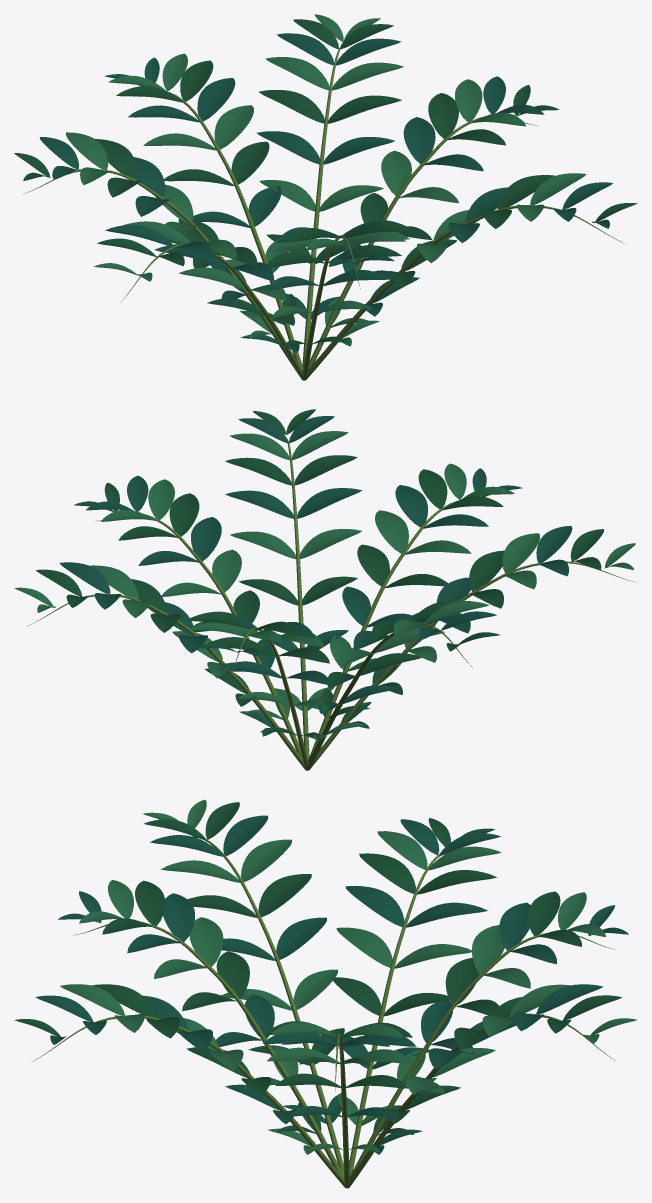
Rendered from fern.glb.
3 views of the same model, one above another, from view 1: azimuth 30°, elevation 25°; view 2: azimuth 150°, elevation 25°; view 3: azimuth 270°, elevation 25° (orthographic). The views are drawn at different scales.
Parts seen in each view (by area): view 1: fern; view 2: fern; view 3: fern.
Part boxes in pixels (x1,y1,x2,y2): fern: (14,14,637,380); fern: (14,409,637,770); fern: (14,799,637,1188).
Bounding box in the file's own units: 2.44 × 1.08 × 2.42.
